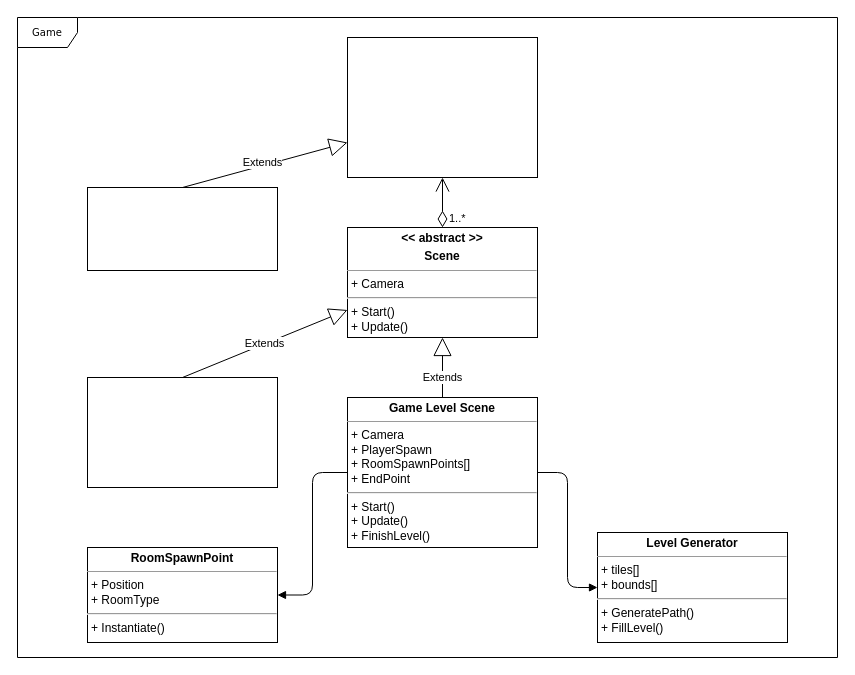
The diagram is 855 pixels wide and 675 high, and some of its shapes have lost their labels. The centre of each missing label's shape, as x and y in pixels:
"PlayerControl + Start() + Update() + Move()" goes at [182,228].
"Start/End Scene + Camera + UIElements + Start() + Update()" goes at [182,432].
"Unity + Levels[]: Unity Scene + Start() + Update() + LoadScene()" goes at [442,107].
